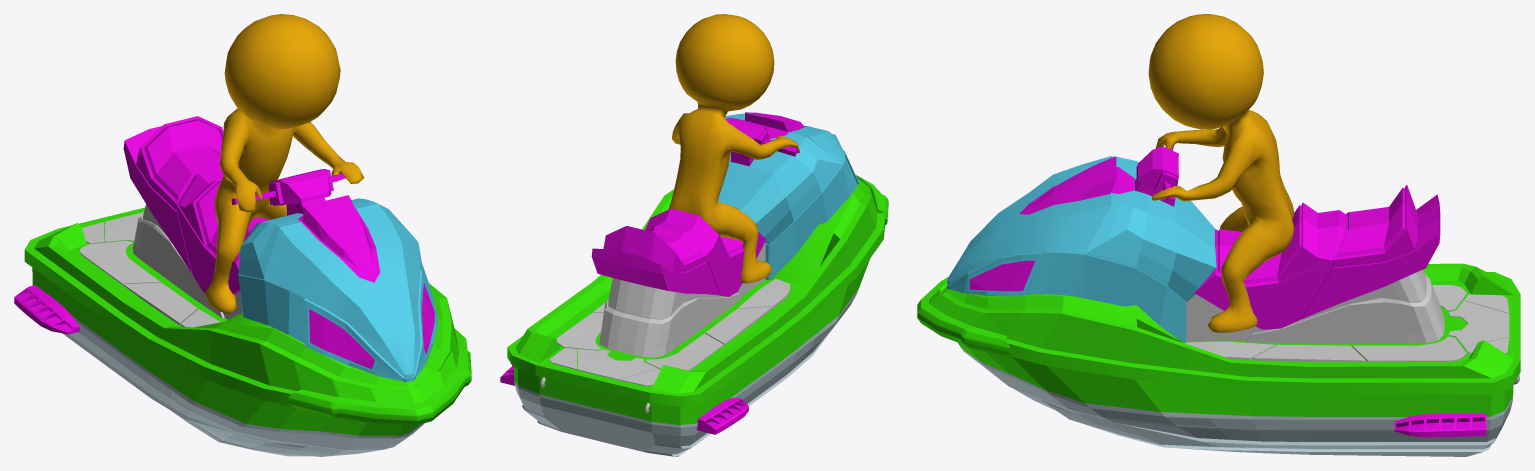
File: quad_bike.fbx
The picture shows the model from 3 angles, left to right: view 1: azimuth 30°, elevation 25°; view 2: azimuth 150°, elevation 25°; view 3: azimuth 270°, elevation 25°; orthographic projection. The views are drawn at different scales.
Parts seen in each view (by area): view 1: polySurface1028; view 2: polySurface1028; view 3: polySurface1028.
Boxes of the visible parts, <box> form: polySurface1028: <box>14,14,471,456</box>; polySurface1028: <box>500,14,888,456</box>; polySurface1028: <box>917,14,1520,456</box>.
Bounding box in the file's own units: 155 × 230 × 311.
